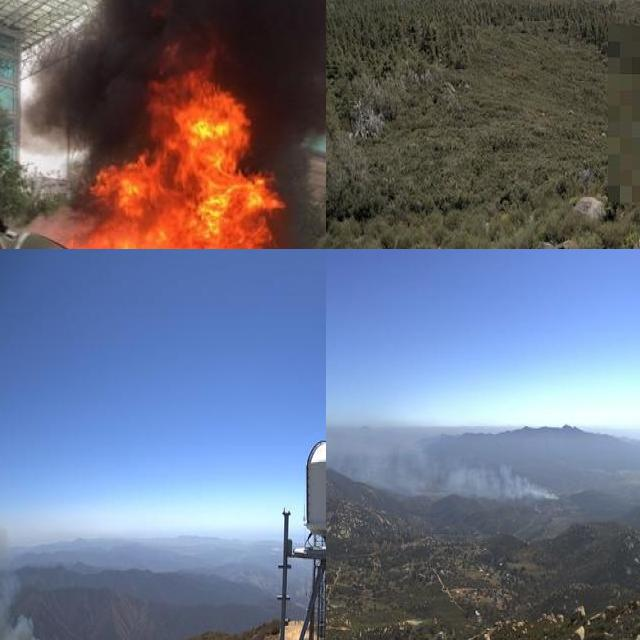fire: (42, 60, 311, 249)
smoke: (33, 0, 326, 143), (326, 423, 559, 501), (0, 507, 56, 640)
